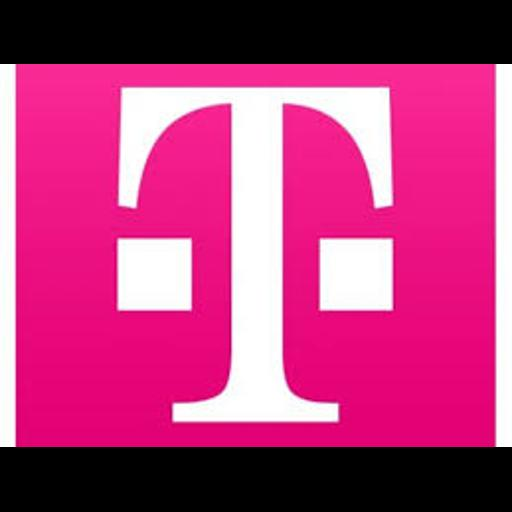Deutsche Telekom: (0, 64, 512, 447)
